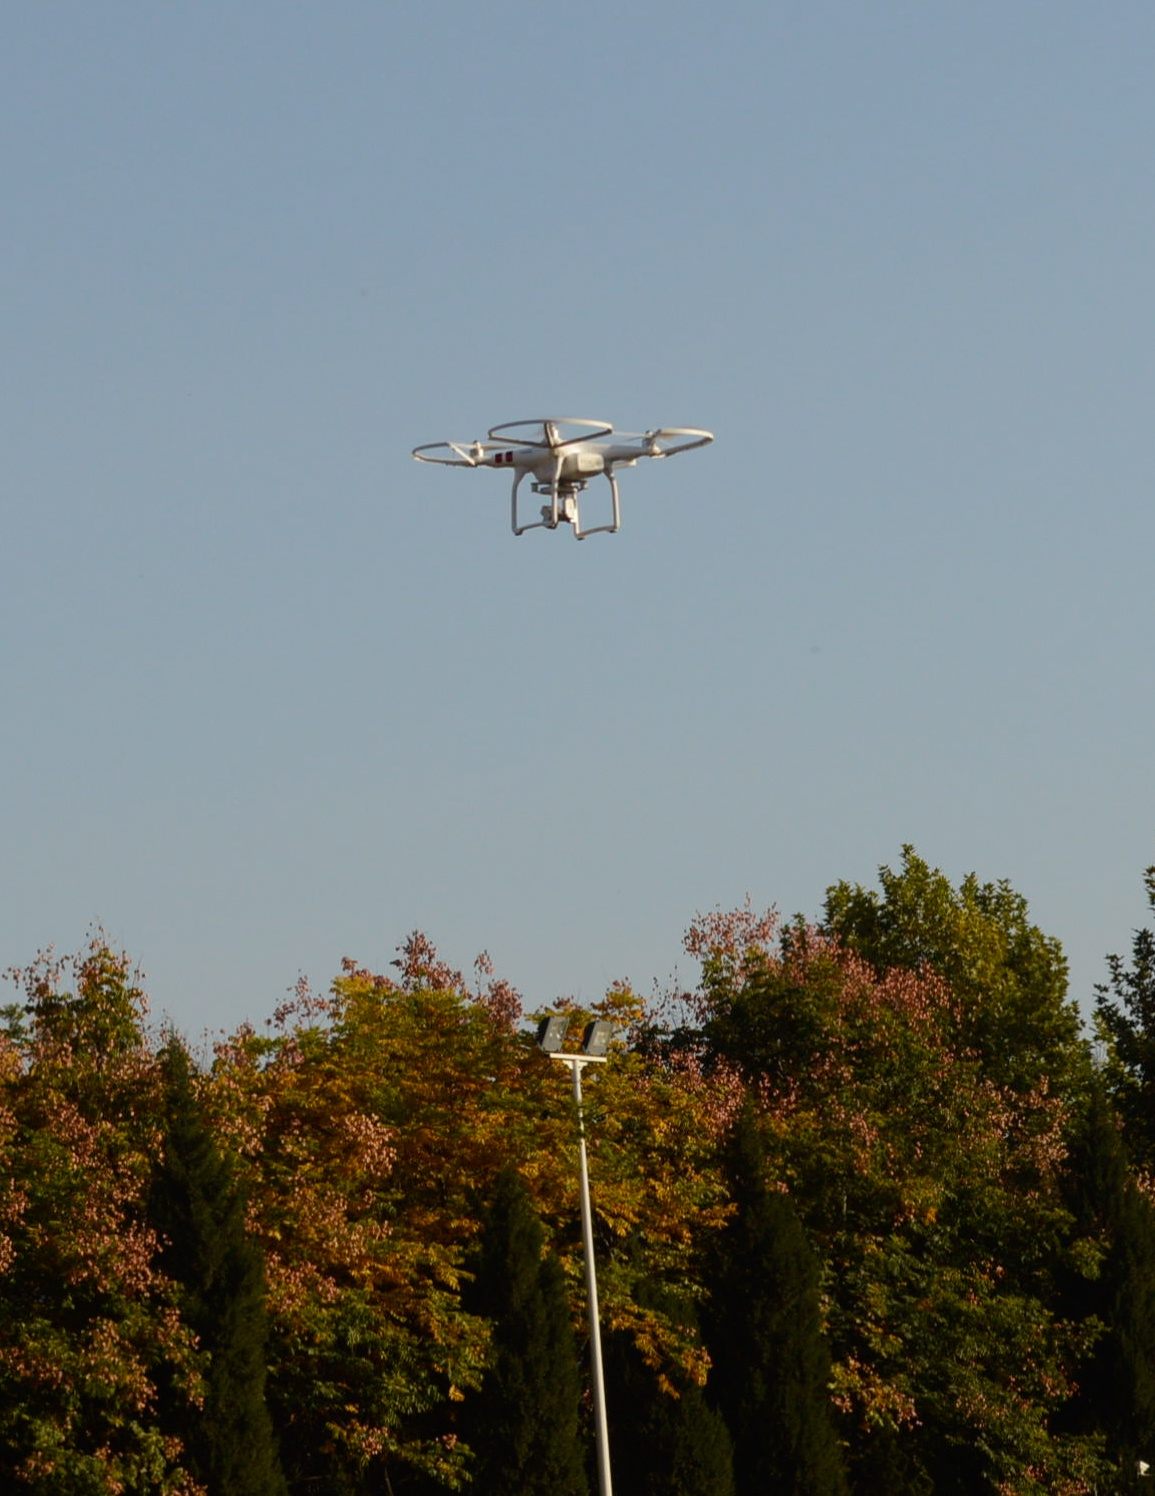DJI: (411, 415, 712, 537)
